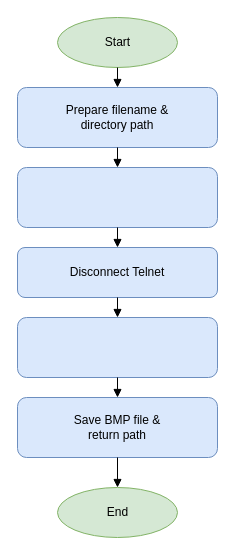
Image size: 235x555. Some labels were removed from this diagram. The shapes that lost their labels are listed below. From the top down, each one's centre as x and y in pixels, then its label:
the point at 117,197: Connect via Telnet & trigger image capture SE8
the point at 117,347: Download image via FTP
